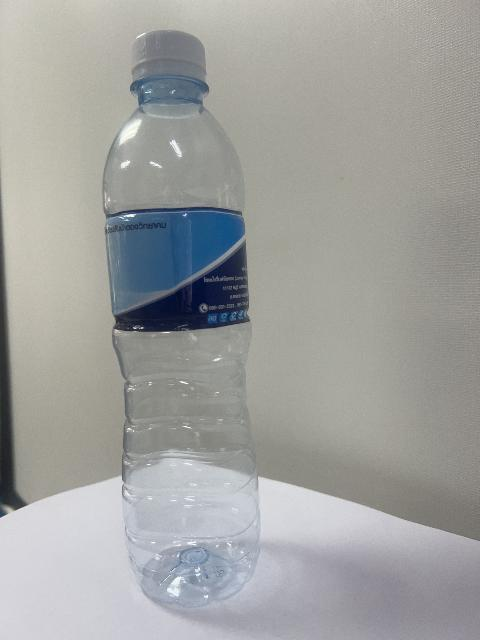bottle: (104, 31, 259, 606)
